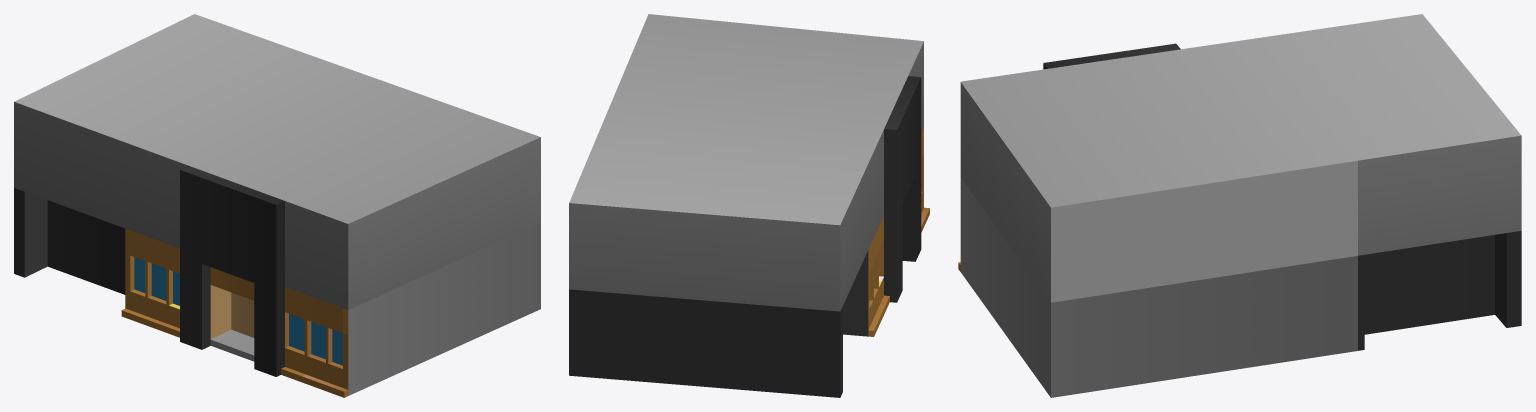
Rendered from starbak.fbx.
3 views of the same model, side by side, from view 1: azimuth 30°, elevation 25°; view 2: azimuth 150°, elevation 25°; view 3: azimuth 270°, elevation 25° (orthographic). The views are drawn at different scales.
Visible parts, largest first — view 1: starbak; view 2: starbak; view 3: starbak.
Boxes of the visible parts, <box> form: starbak: <box>14,14,540,397</box>; starbak: <box>569,14,929,397</box>; starbak: <box>958,14,1521,397</box>.
Bounding box in the file's own units: 2871 × 1315 × 3527.
